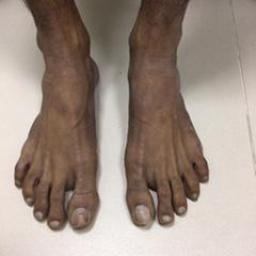Dorsal View -Both Feet-: (11, 22, 224, 246)
